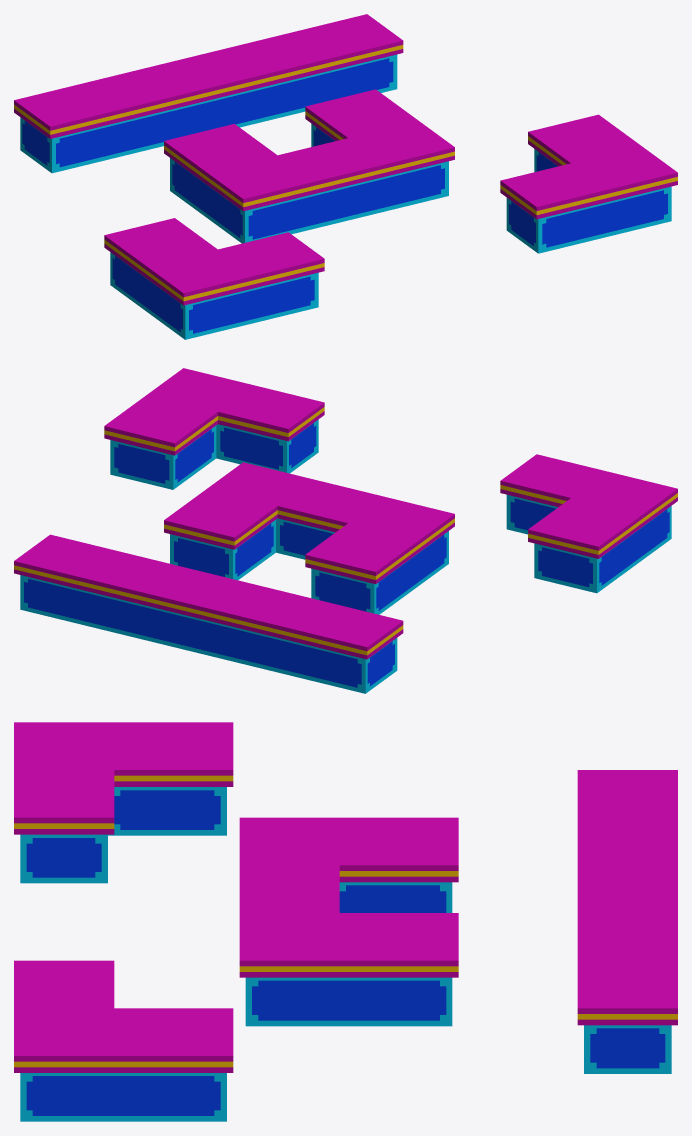
Rendered from level_2.2.obj.
3 views of the same model, one above another, from view 1: azimuth 30°, elevation 25°; view 2: azimuth 150°, elevation 25°; view 3: azimuth 270°, elevation 25° (orthographic). The views are drawn at different scales.
Size of the model in its own units: 12.6 by 1.2 by 10.6.
Materials: 1 (1 with a texture image).
